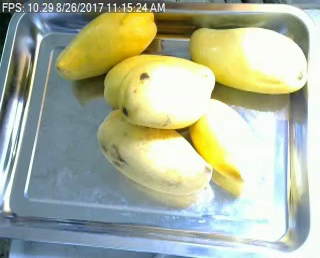Mango: (95, 109, 213, 194), (188, 27, 308, 95), (56, 6, 159, 79), (184, 97, 260, 181), (119, 57, 206, 126), (102, 54, 201, 109)
